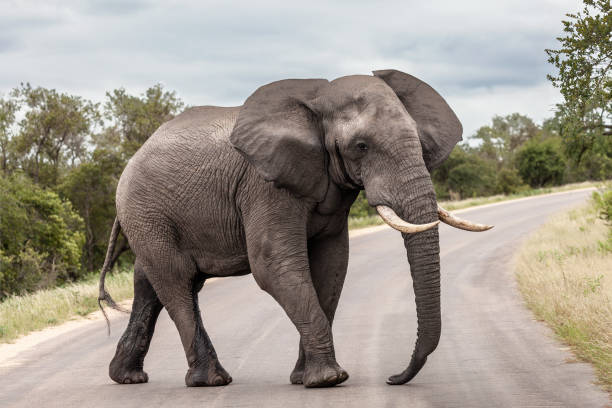africanelephant: (309, 75, 481, 298)
